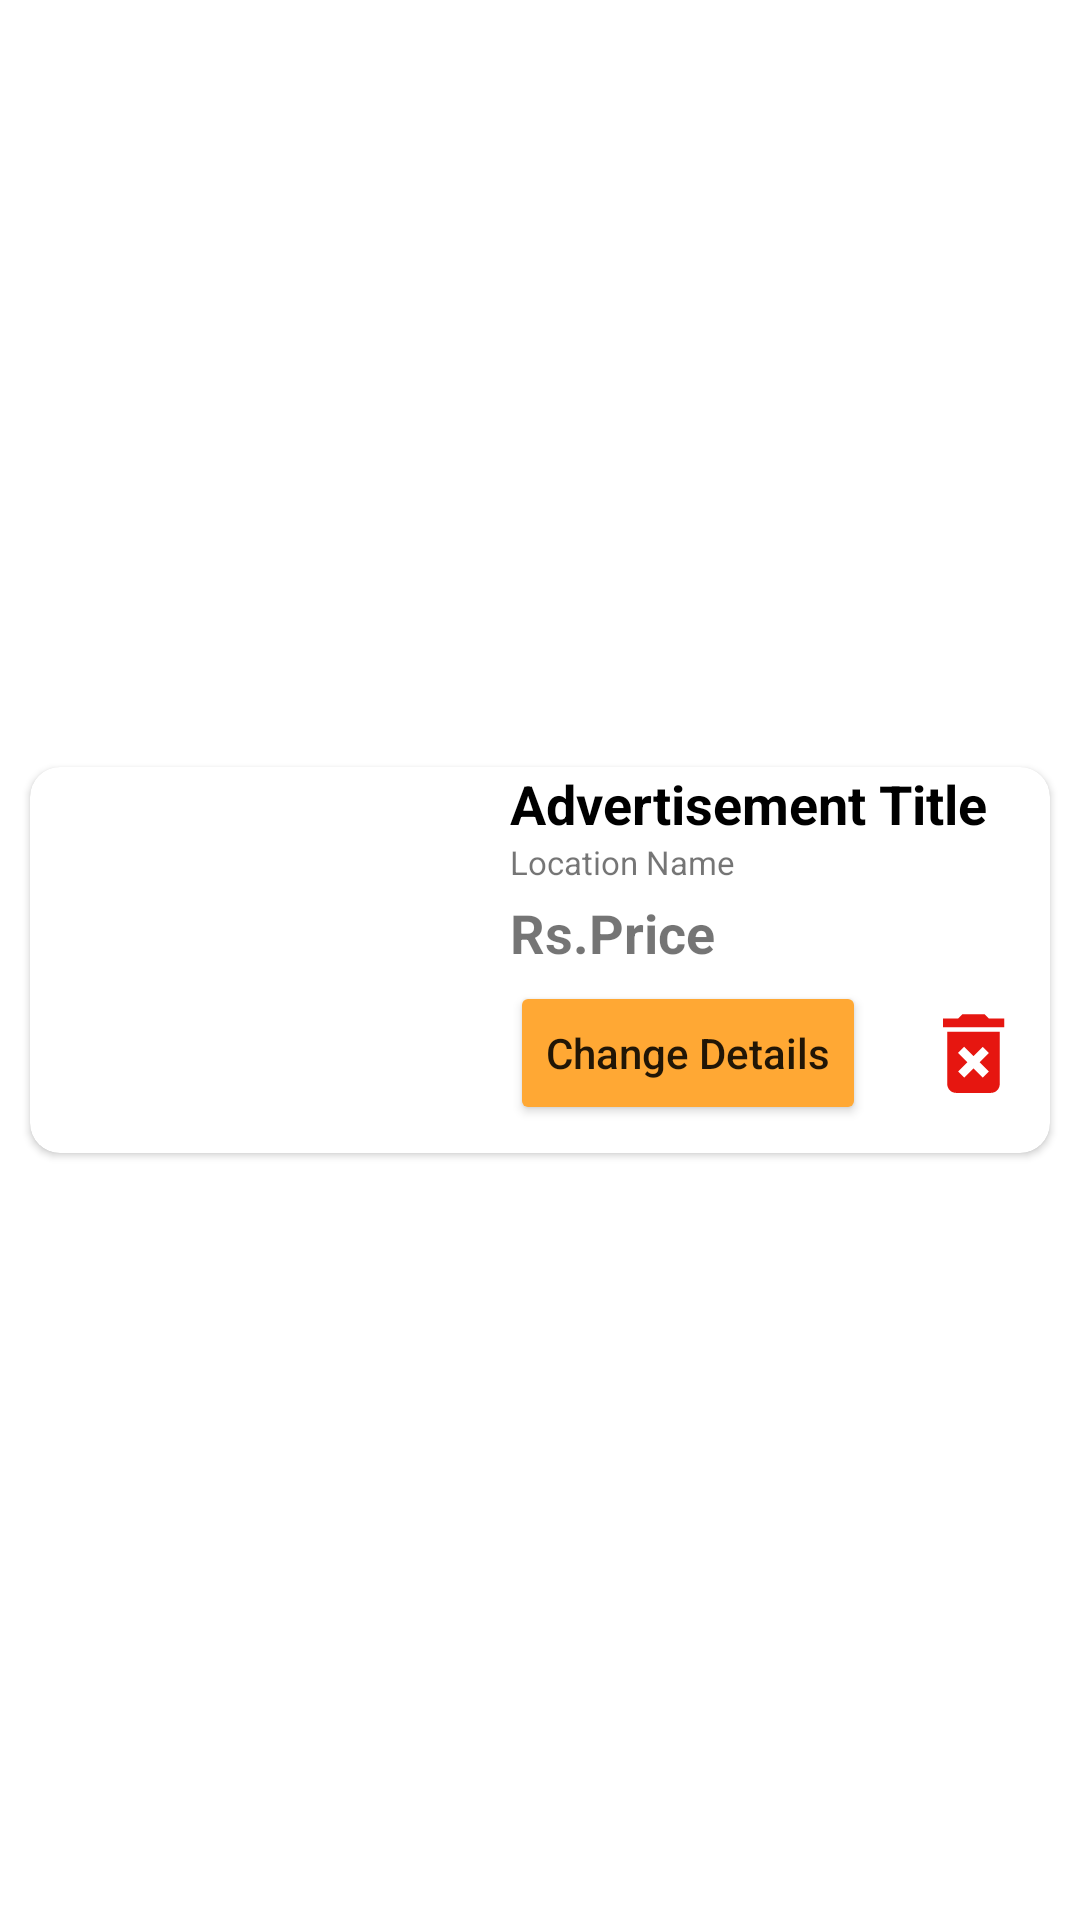

Screen size 1080*1920. Icon name, then its box in pixels as (x1, y1, x2, y2):
delete forever: (943, 1014, 1005, 1093)
